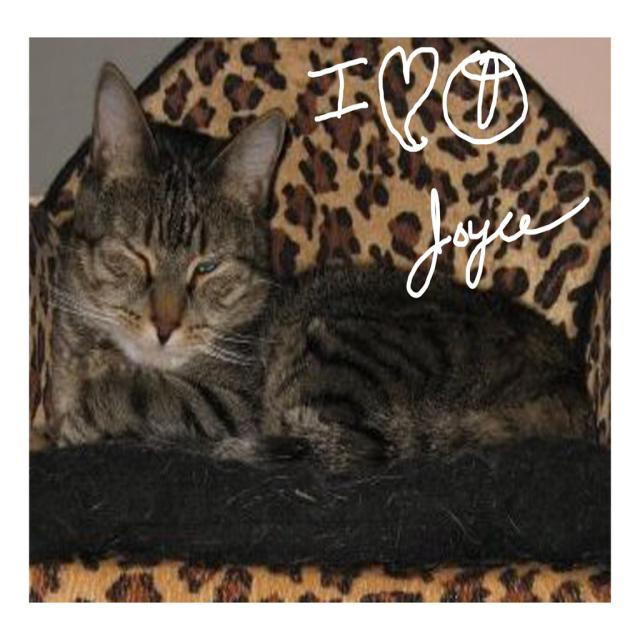Cat: (38, 54, 596, 471)
